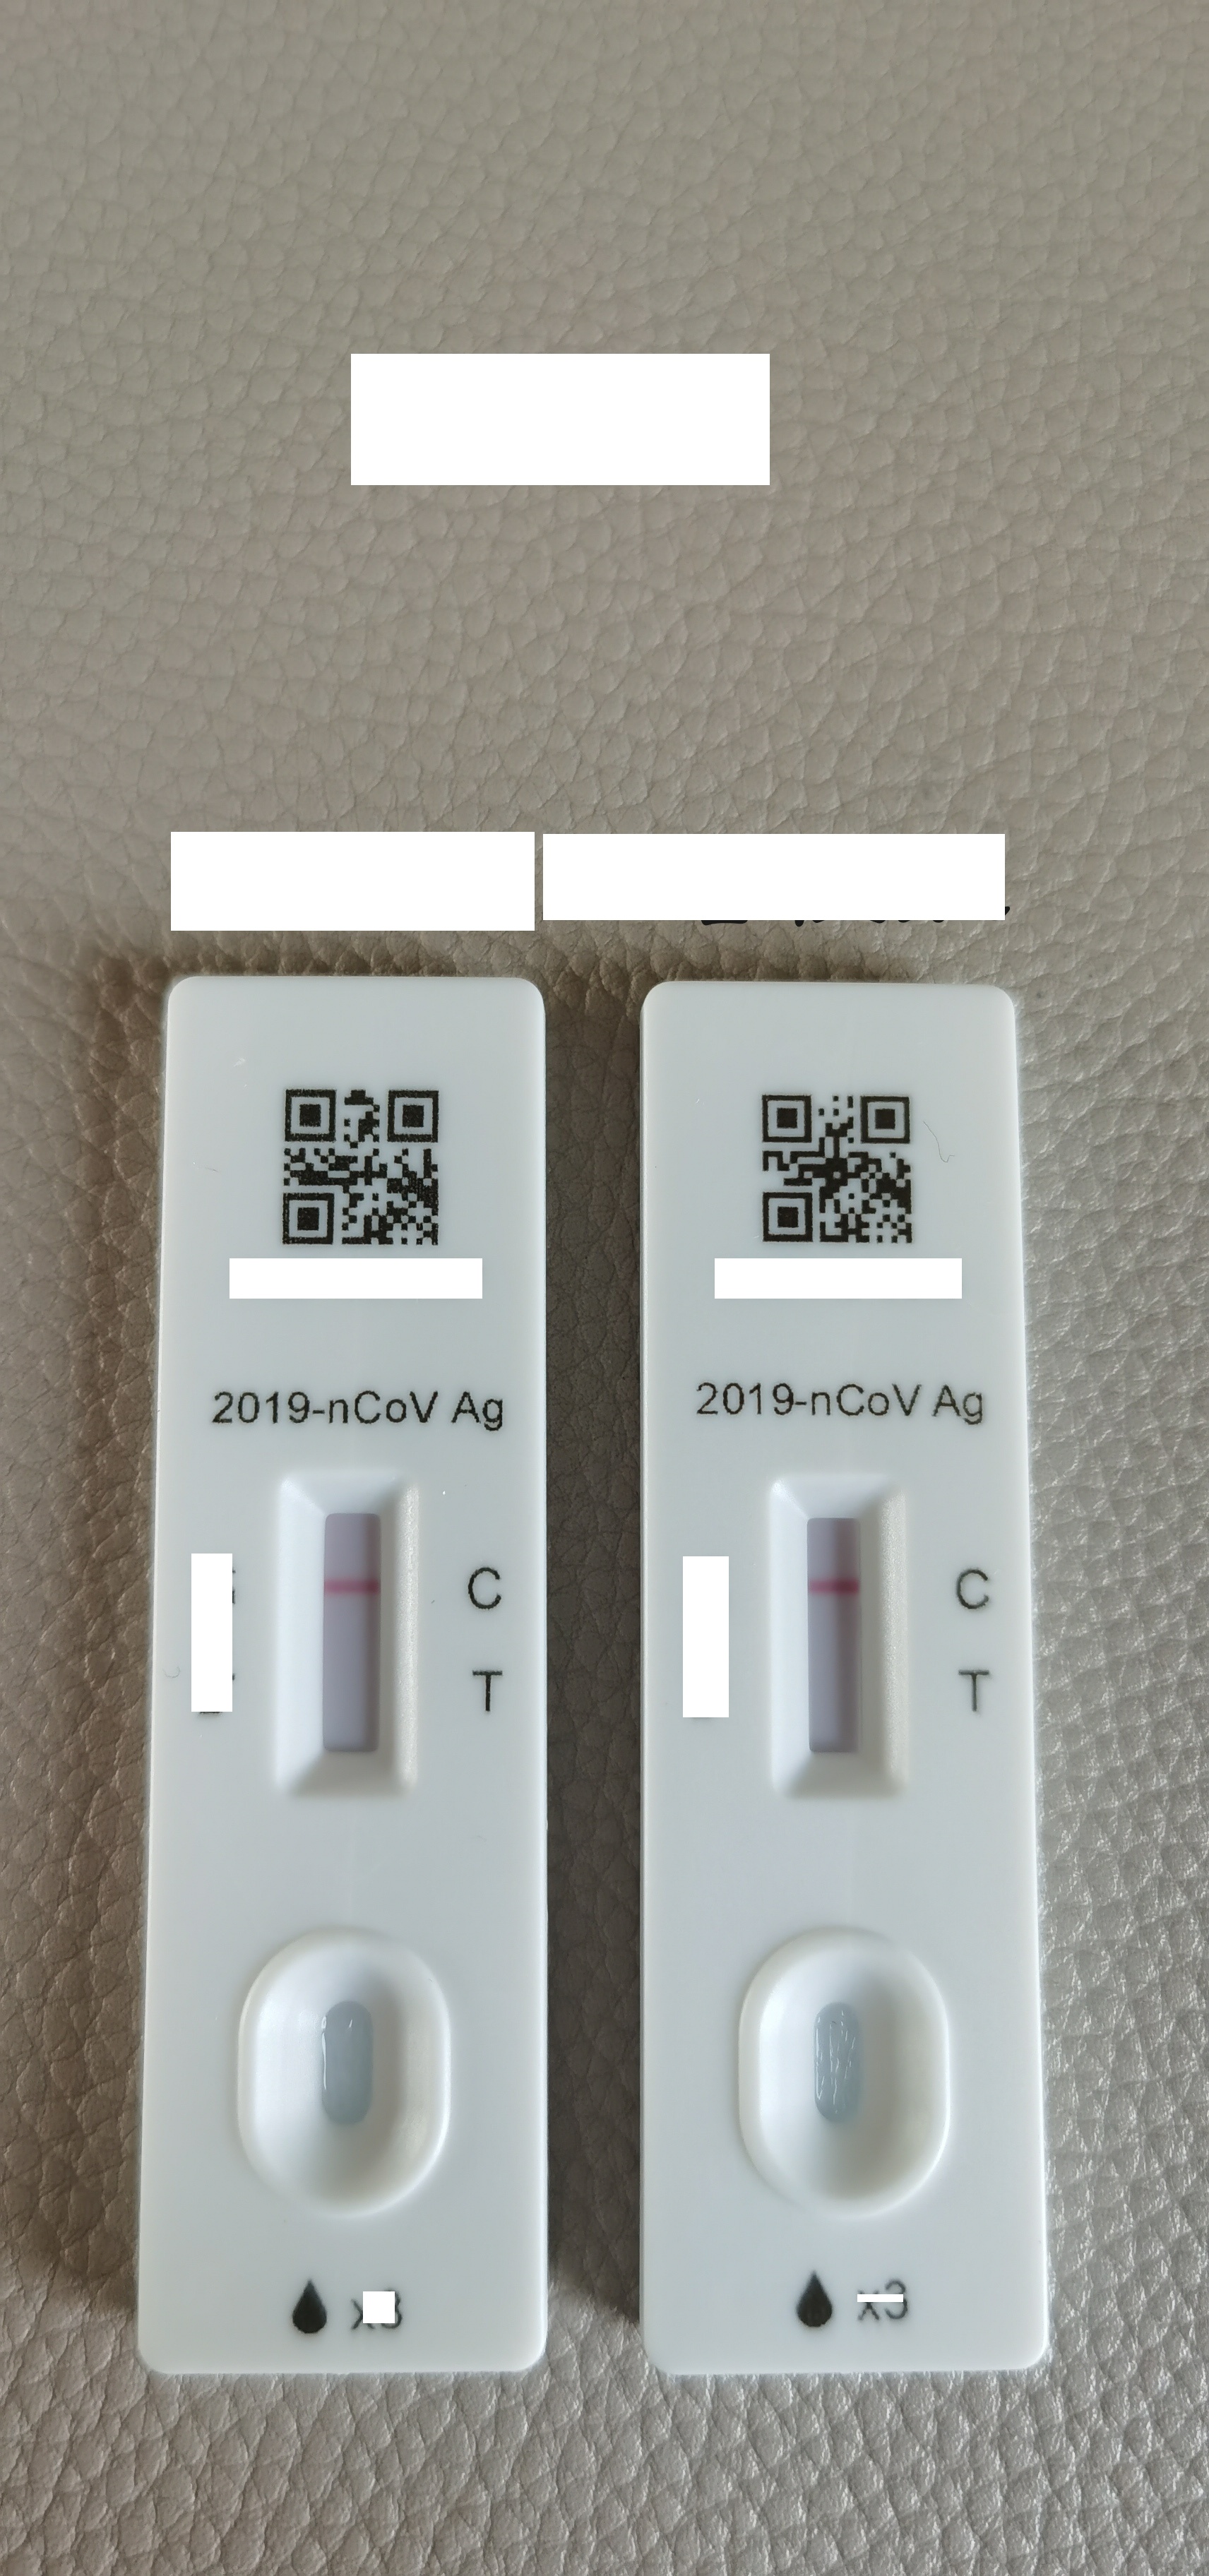negative: (279, 1464, 411, 1809), (767, 1470, 899, 1809)
